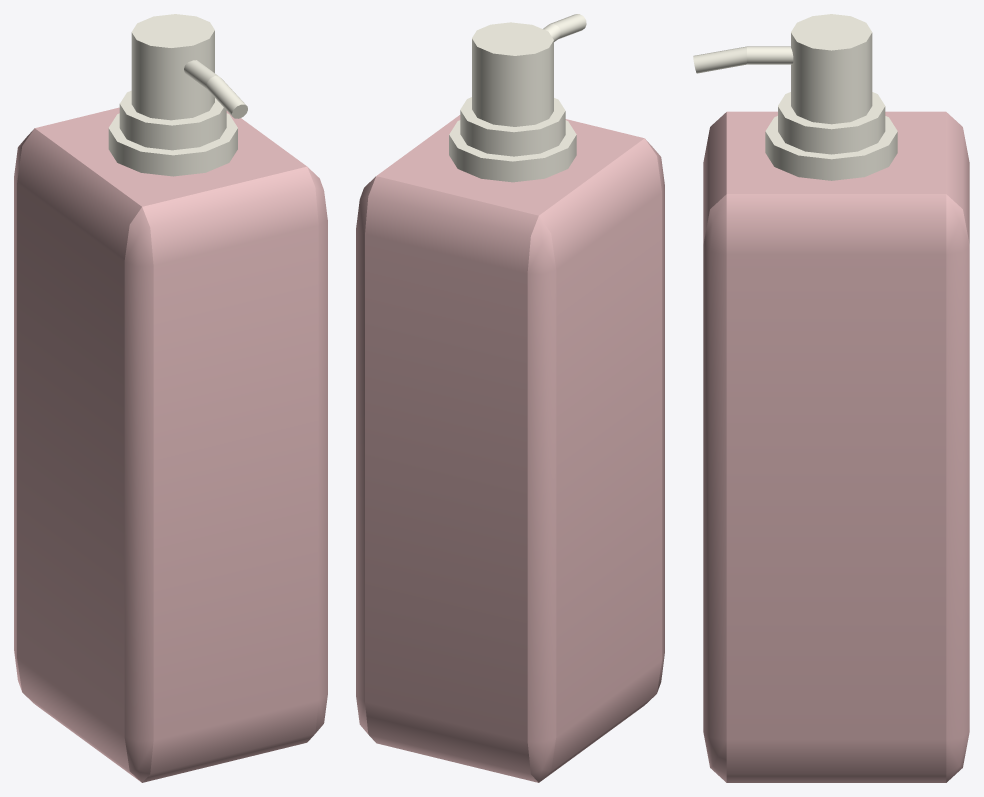
The model's file is Shampoo2.fbx.
3 views of the same model, side by side, from view 1: azimuth 30°, elevation 25°; view 2: azimuth 150°, elevation 25°; view 3: azimuth 270°, elevation 25° (orthographic). The views are drawn at different scales.
Parts seen in each view (by area): view 1: Shampoo2; view 2: Shampoo2; view 3: Shampoo2.
Boxes of the visible parts, bbox=[...] form: Shampoo2: bbox=[14, 14, 327, 782]; Shampoo2: bbox=[356, 14, 664, 782]; Shampoo2: bbox=[693, 14, 969, 782].
Size of the model in its own units: 8.42 by 9.85 by 27.87.
